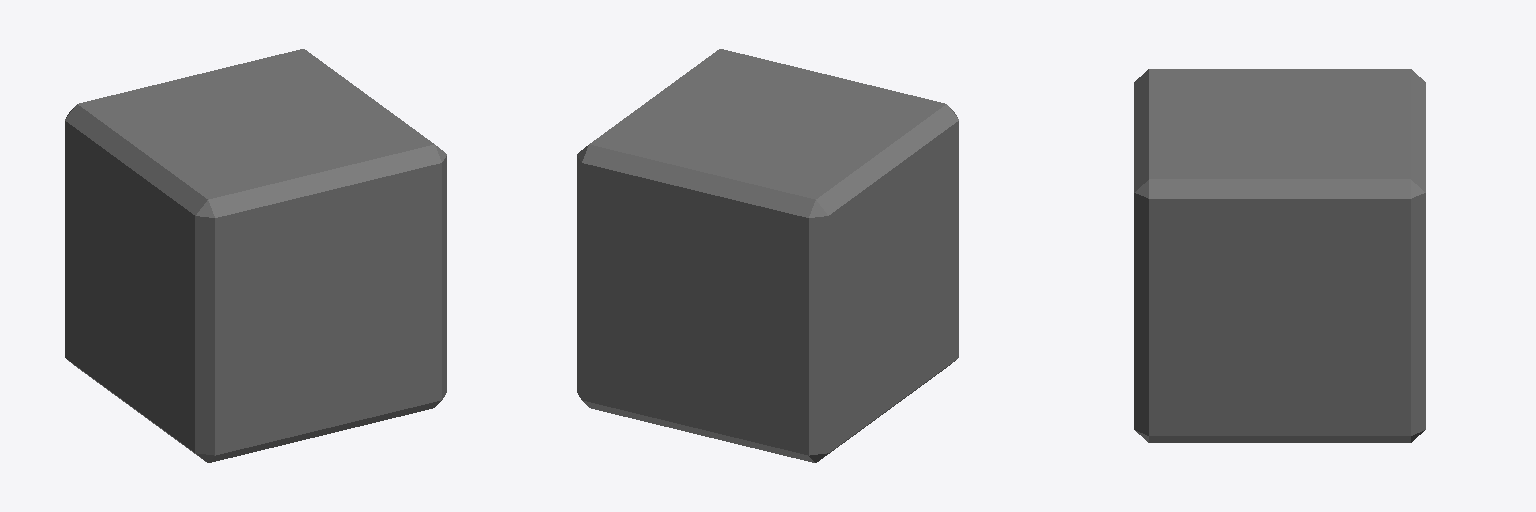
The picture shows the model from 3 angles: view 1: azimuth 30°, elevation 25°; view 2: azimuth 150°, elevation 25°; view 3: azimuth 270°, elevation 25°; orthographic projection.
Parts seen in each view (by area): view 1: Test_cube_v001.obj; view 2: Test_cube_v001.obj; view 3: Test_cube_v001.obj.
Part boxes in pixels (x1,y1,x2,y2): Test_cube_v001.obj: (65,49,446,462); Test_cube_v001.obj: (577,49,958,462); Test_cube_v001.obj: (1134,69,1425,442).
Size of the model in its own units: 20 by 20 by 20.